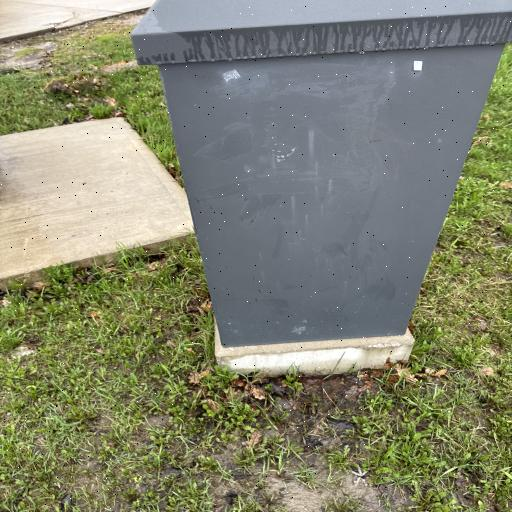Electrical Box: (129, 1, 512, 374)
